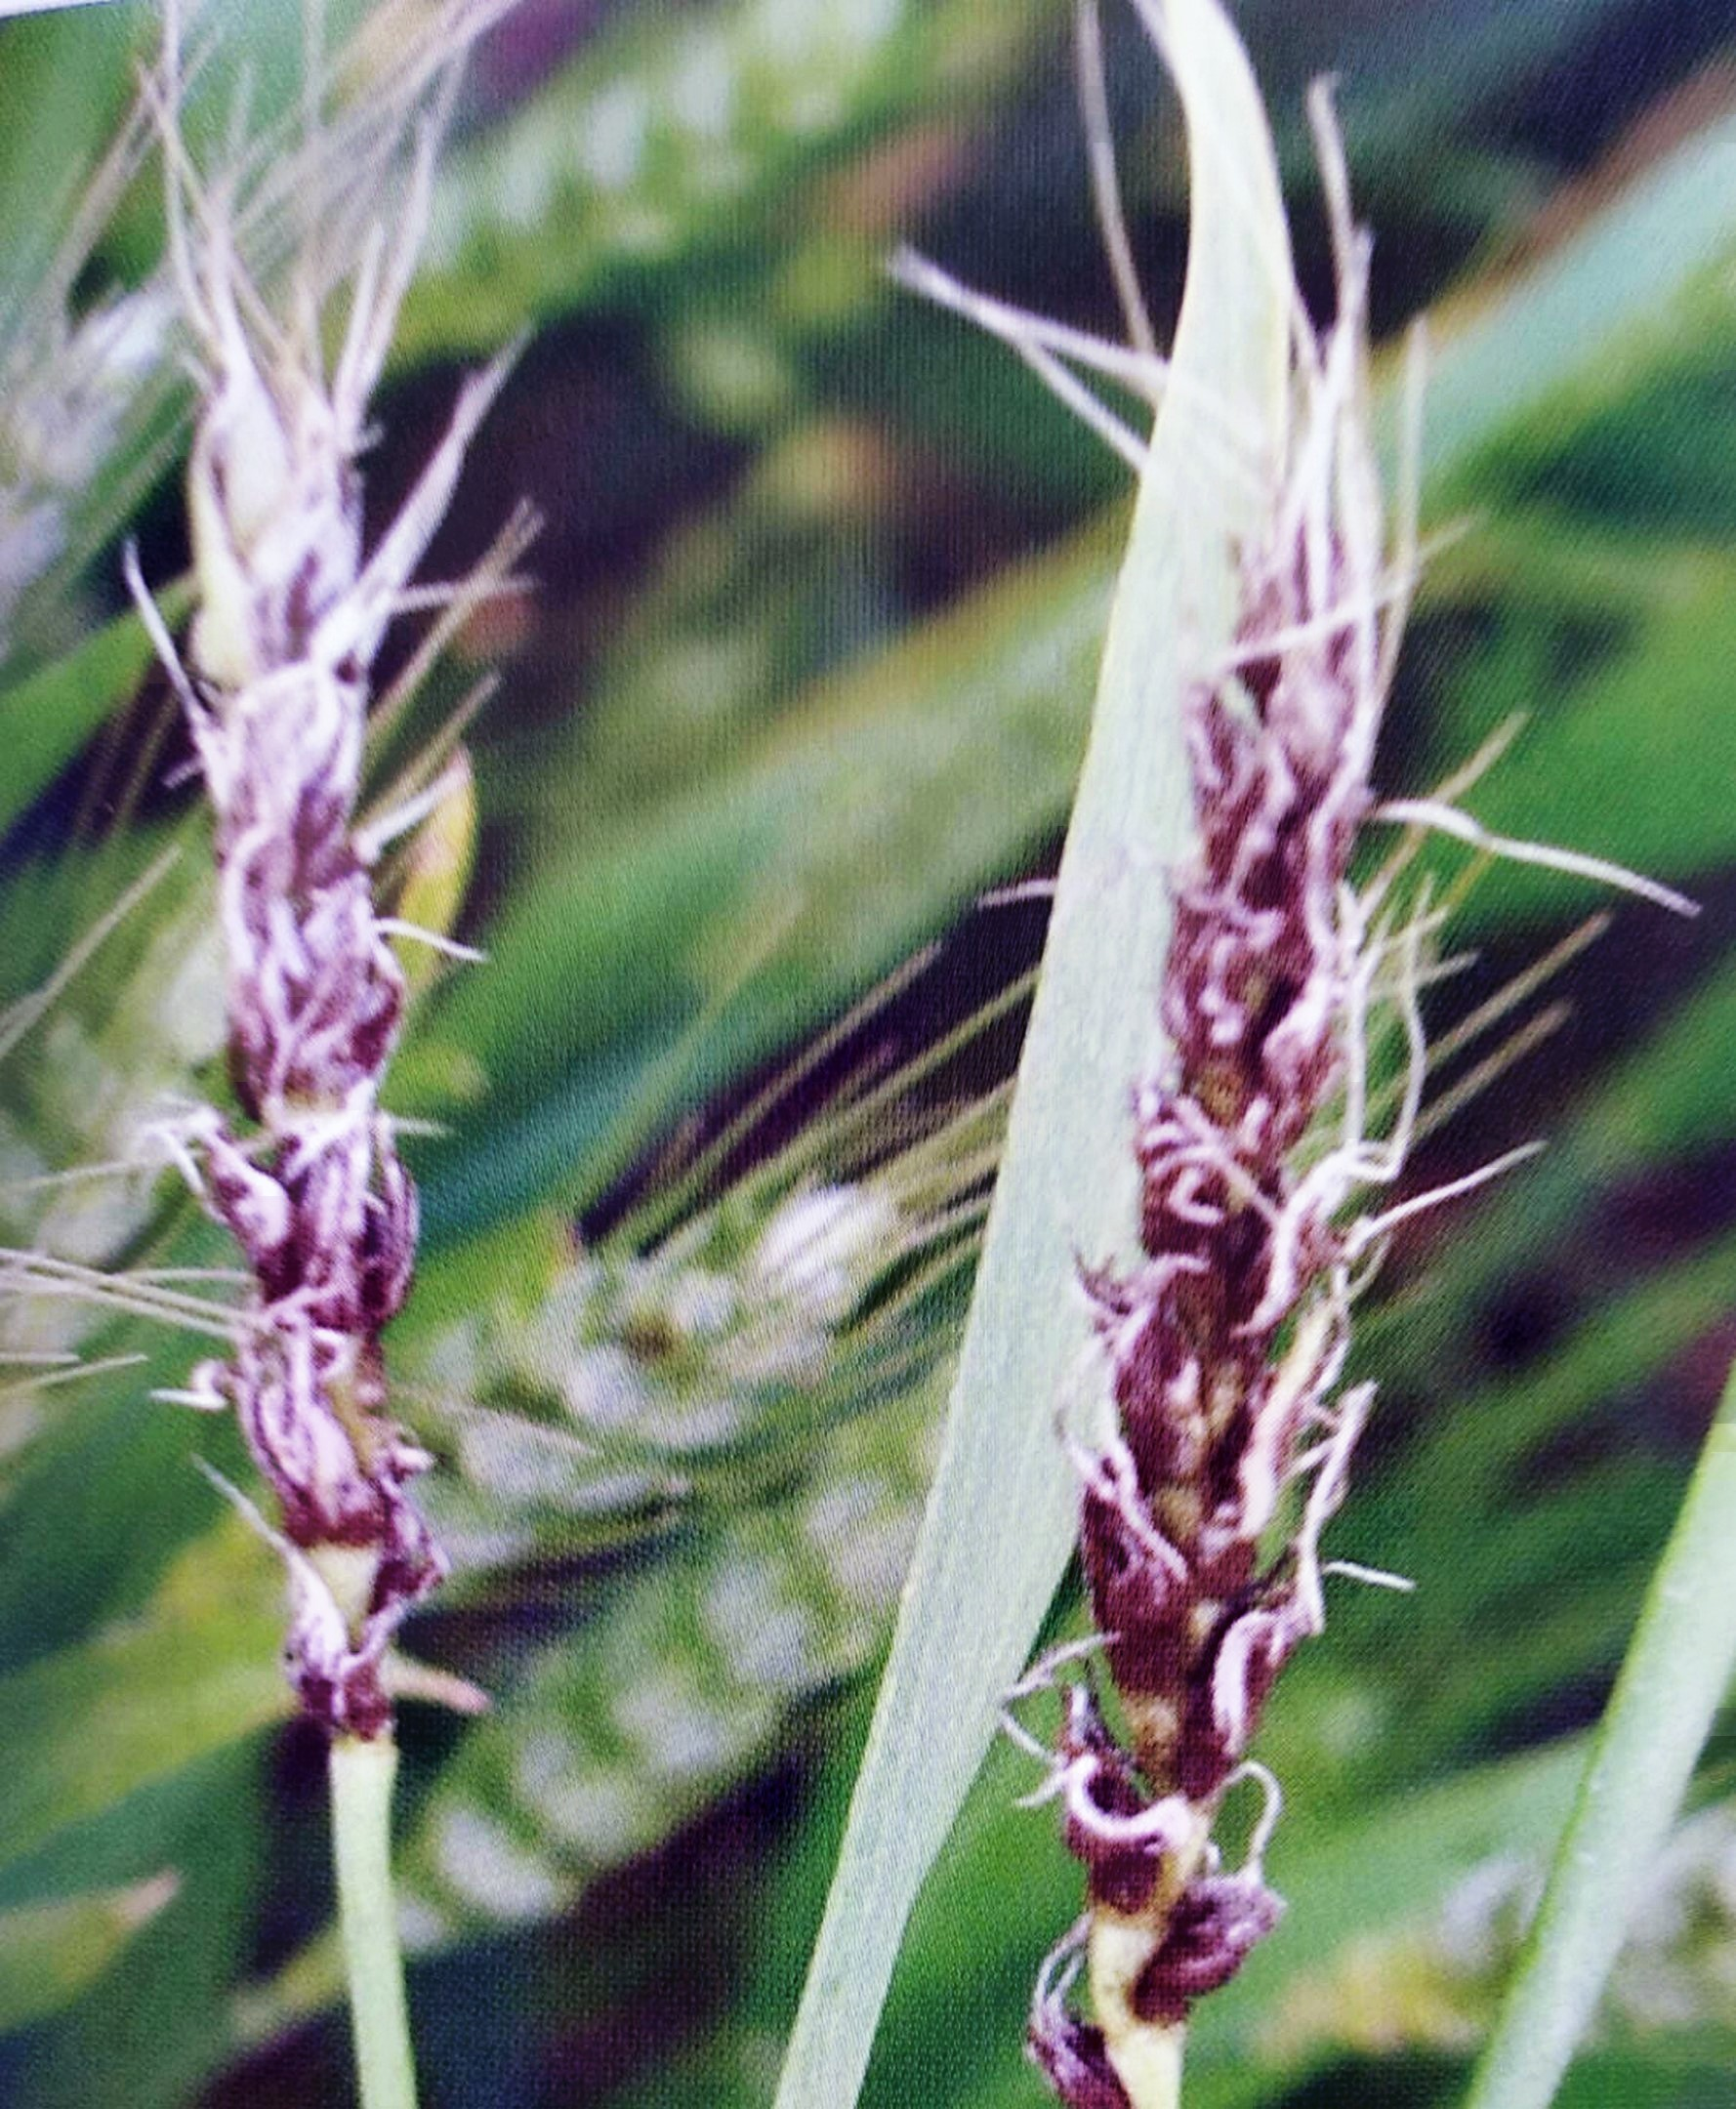Wheat Loose Smut: (1016, 559, 1468, 1990), (138, 415, 529, 1708)
